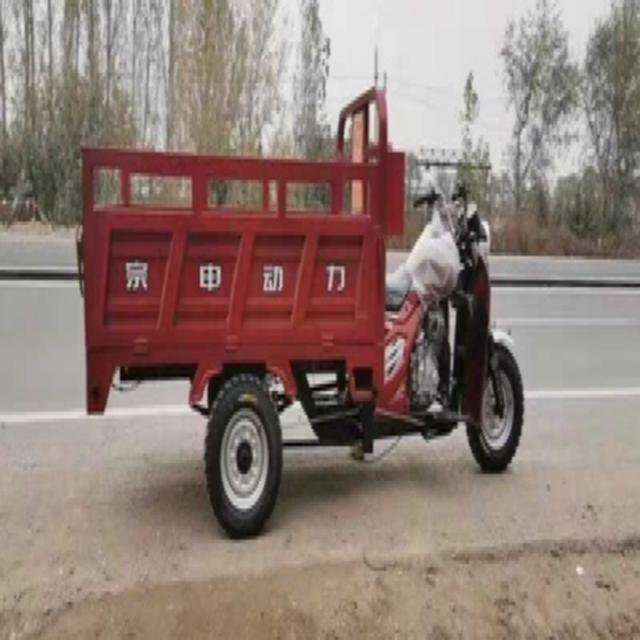tricycle: (69, 83, 523, 540)
